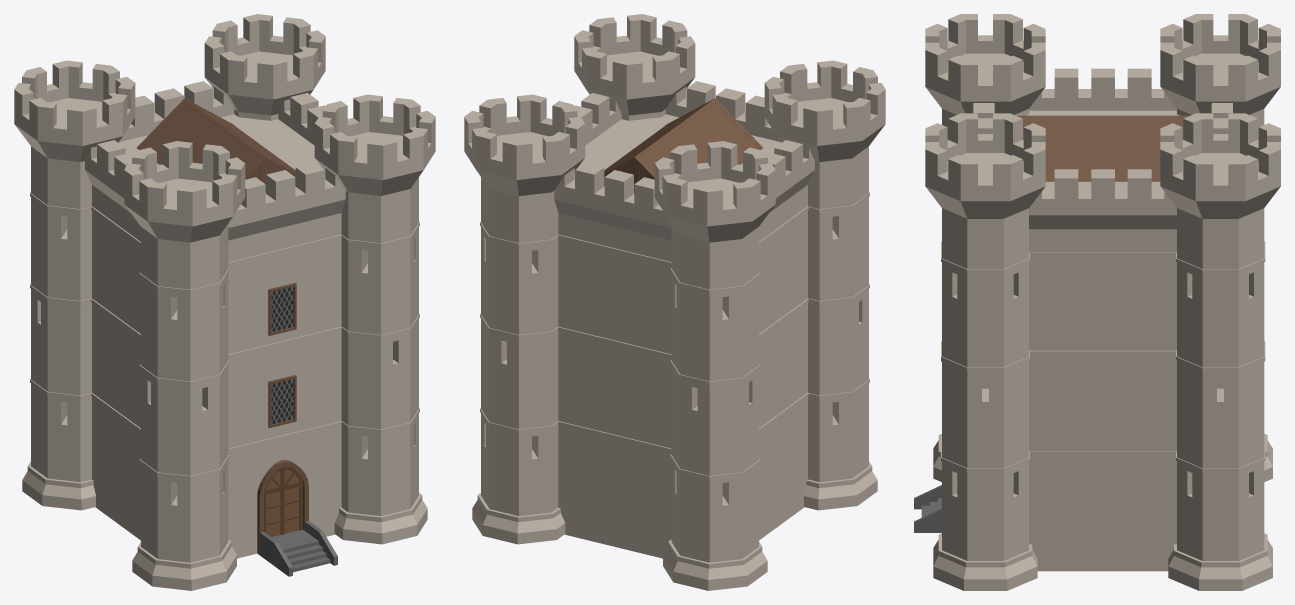
File: SPW_Medieval_Castle_01.glb
3 views of the same model, side by side, from view 1: azimuth 30°, elevation 25°; view 2: azimuth 150°, elevation 25°; view 3: azimuth 270°, elevation 25° (orthographic). The views are drawn at different scales.
Parts seen in each view (by area): view 1: SPW_Medieval_Castle_01; view 2: SPW_Medieval_Castle_01; view 3: SPW_Medieval_Castle_01.
Boxes of the visible parts, box(x1,y1,x2,y2) form: SPW_Medieval_Castle_01: box(14, 14, 435, 590); SPW_Medieval_Castle_01: box(464, 14, 885, 590); SPW_Medieval_Castle_01: box(914, 14, 1280, 590).
Size of the model in its own units: 10.55 by 14.1 by 10.88.
1 material, 1 textured.
